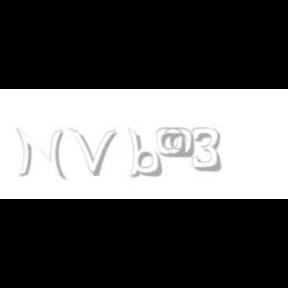3: (192, 128, 222, 172)
N: (16, 128, 64, 180)
V: (69, 128, 117, 176)
b: (127, 128, 165, 178)
o: (156, 128, 186, 158), (164, 128, 194, 158)
